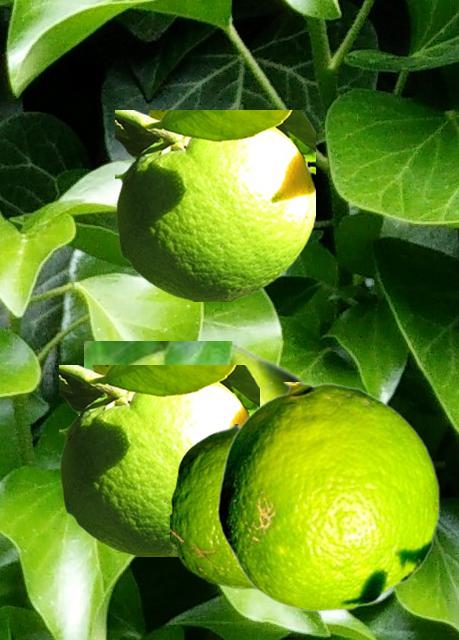dalandan: (217, 382, 439, 611), (115, 110, 314, 300), (59, 365, 258, 555), (84, 341, 308, 404), (170, 424, 254, 589)
